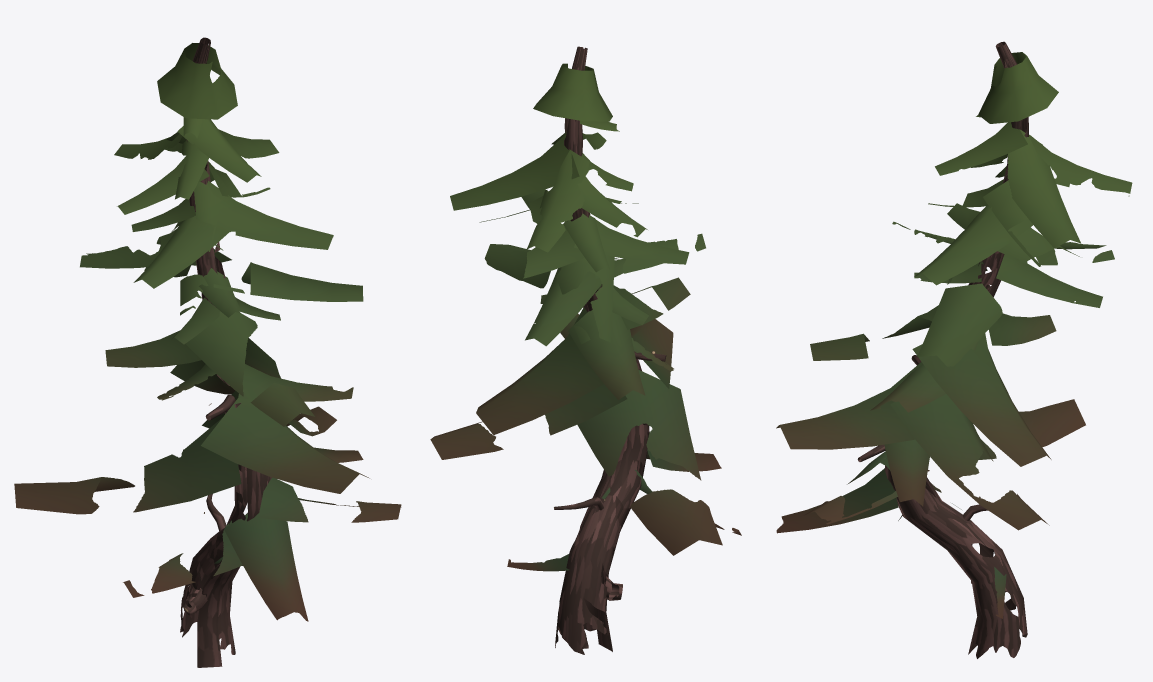
The model's file is PineTree.fbx.
3 renders of one model, left to right at view 1: azimuth 30°, elevation 25°; view 2: azimuth 150°, elevation 25°; view 3: azimuth 270°, elevation 25°, orthographic.
Parts seen in each view (by area): view 1: PineTree; view 2: PineTree; view 3: PineTree.
Part boxes in pixels (box(x1,y1,x2,y2)): PineTree: box(14, 37, 401, 667); PineTree: box(430, 46, 741, 654); PineTree: box(776, 41, 1132, 658).
Size of the model in its own units: 1893 by 3805 by 1957.
